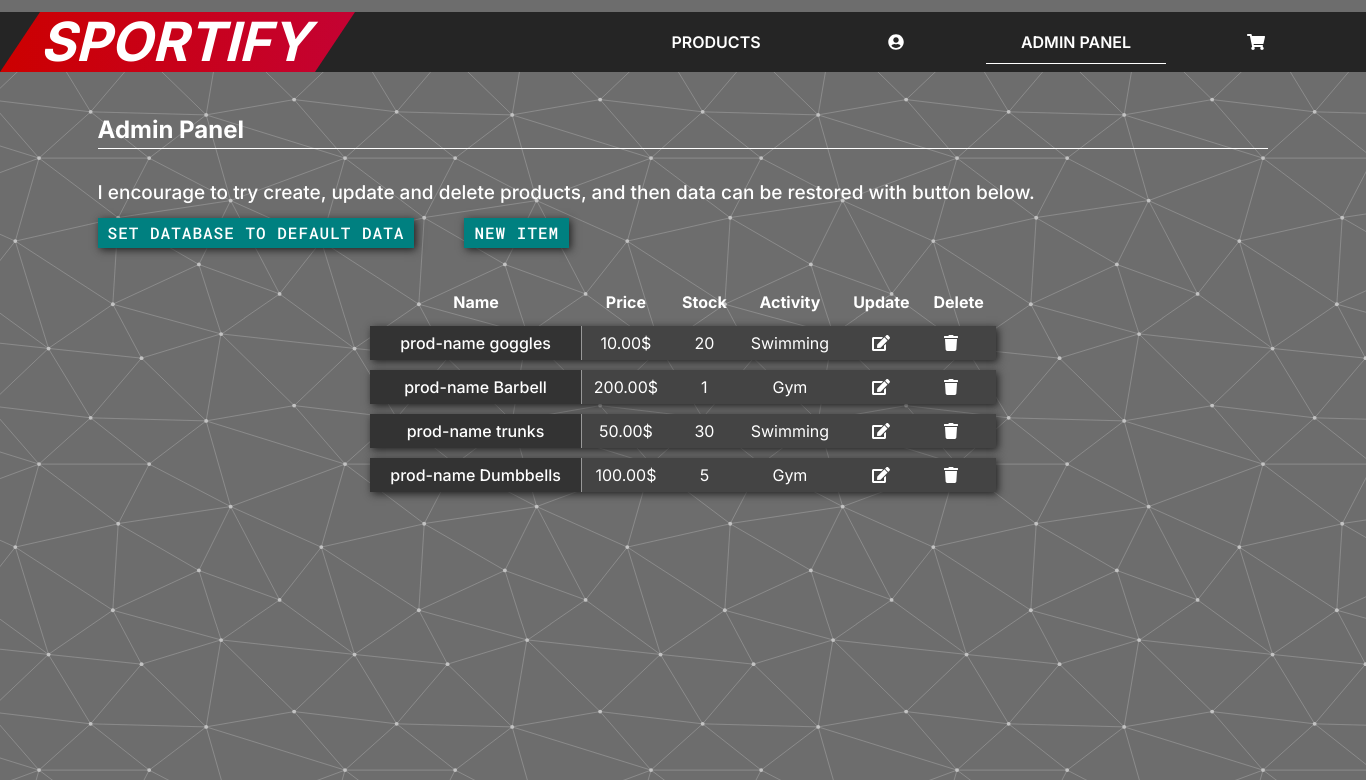
Test: admin panel › navigates to product update form
This screenshot has width=1366, height=780.
What coordinates should you click on to do the following:
click the link named "update product" in the row of "prod-name goggles"
I would click on:
 (881, 342)
Its box is [872, 332, 890, 352].
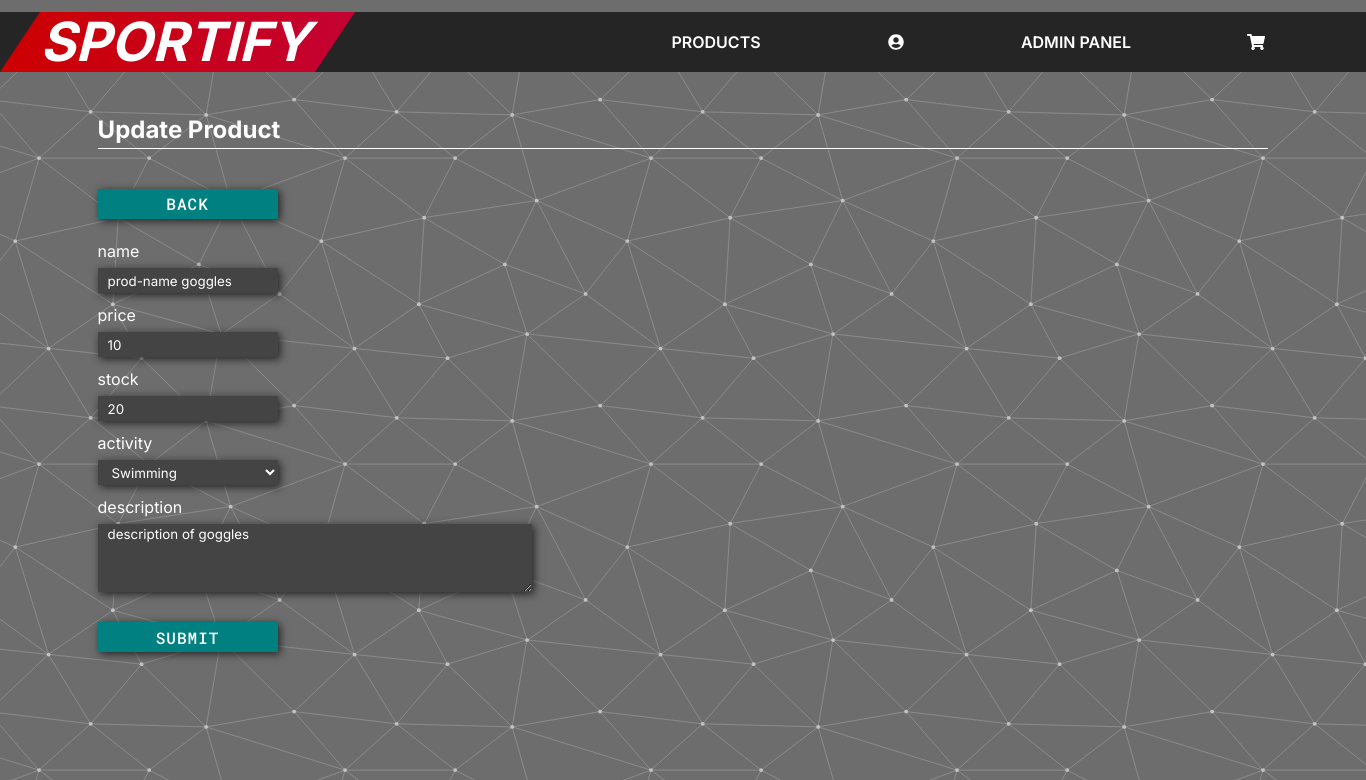
Now the heading "Update Product" is shown, box [98, 112, 1268, 149]
